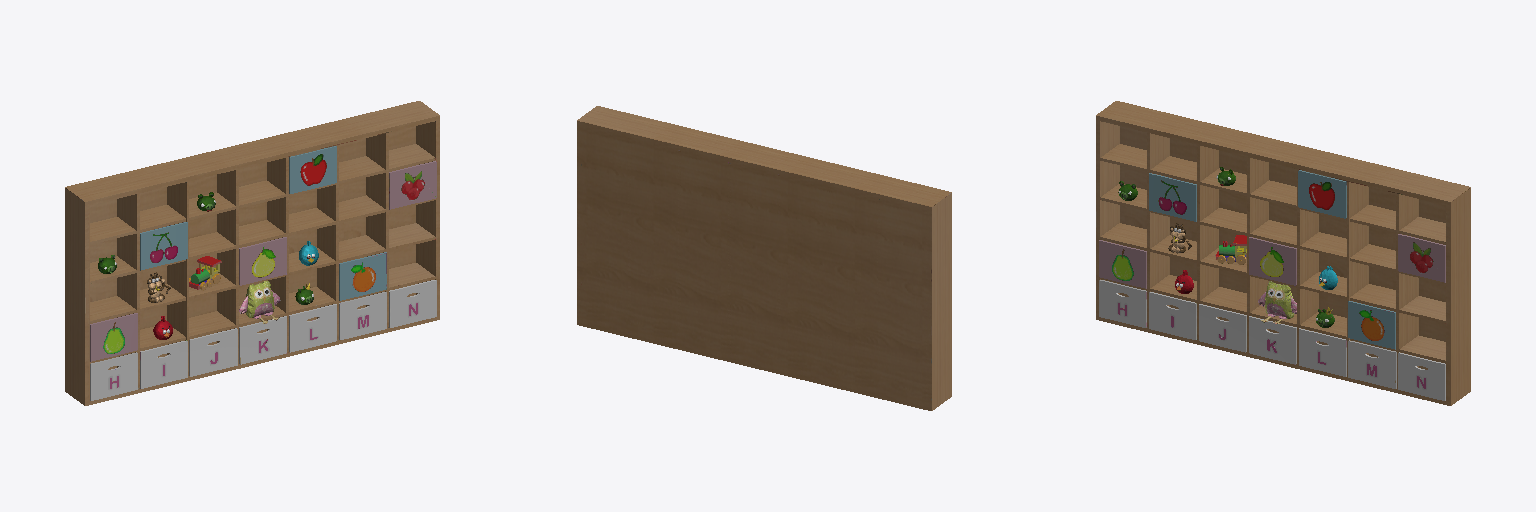
3 views of the same model, side by side, from view 1: azimuth 30°, elevation 25°; view 2: azimuth 150°, elevation 25°; view 3: azimuth 330°, elevation 25° (orthographic).
Visible parts, largest first — view 1: solid_008, solid_018, solid_017, solid_013, solid_032, solid_010; view 2: solid_008; view 3: solid_008, solid_018, solid_017, solid_013, solid_032, solid_010.
Boxes of the visible parts, box(x1,y1,x2,y2) form: solid_008: box(65, 101, 439, 405); solid_018: box(90, 280, 436, 400); solid_017: box(90, 161, 436, 361); solid_013: box(140, 146, 386, 300); solid_032: box(98, 192, 313, 304); solid_010: box(301, 154, 326, 185); solid_008: box(577, 106, 951, 410); solid_008: box(1096, 101, 1470, 405); solid_018: box(1099, 280, 1445, 400); solid_017: box(1099, 234, 1445, 288); solid_013: box(1149, 170, 1395, 349); solid_032: box(1118, 167, 1334, 327); solid_010: box(1309, 182, 1334, 209).
Bounding box in the file's own units: 4 × 2.2 × 0.5368.
Materials: 1 (1 with a texture image).